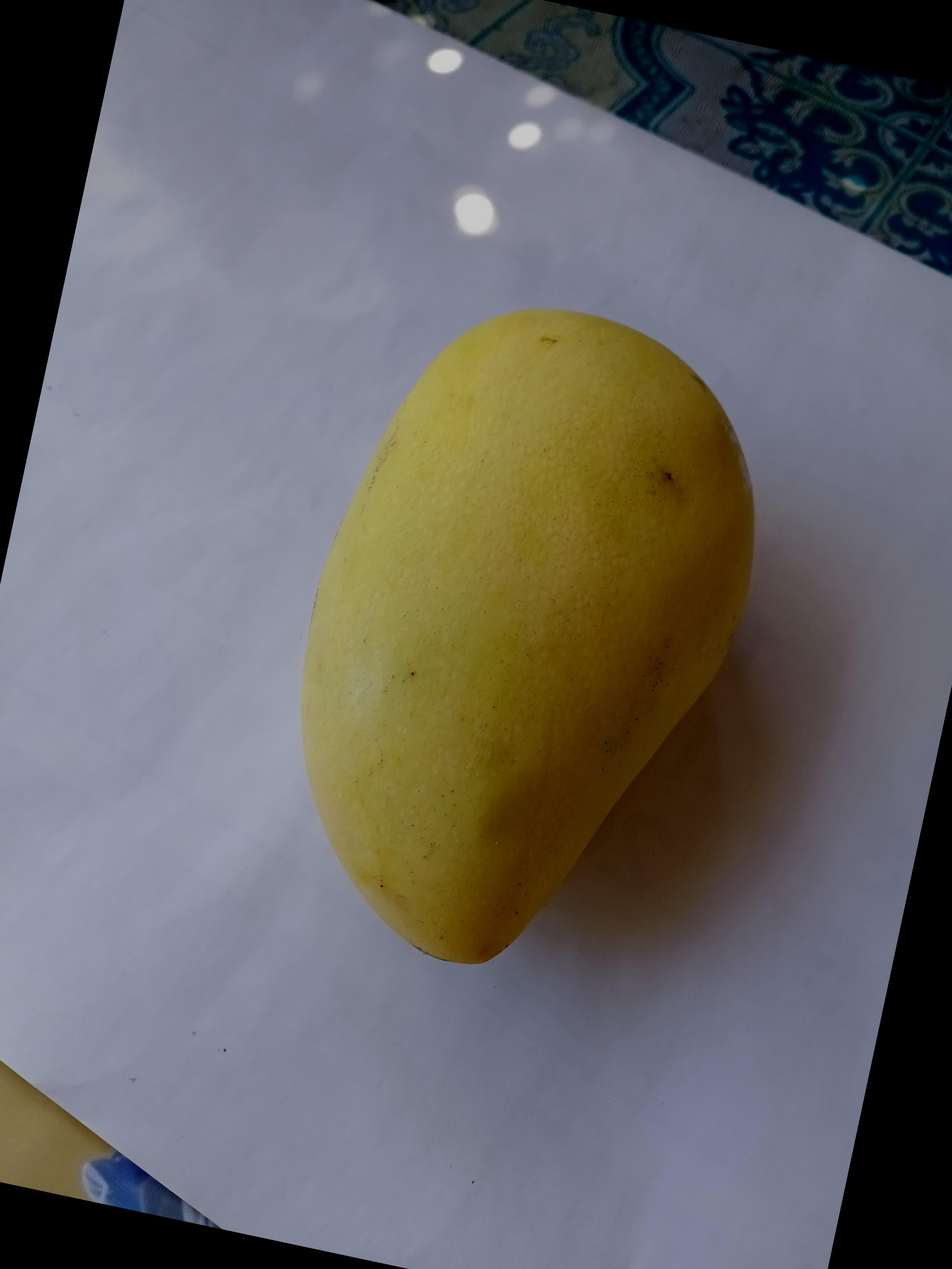Mango Ripe: (371, 81, 952, 997)
